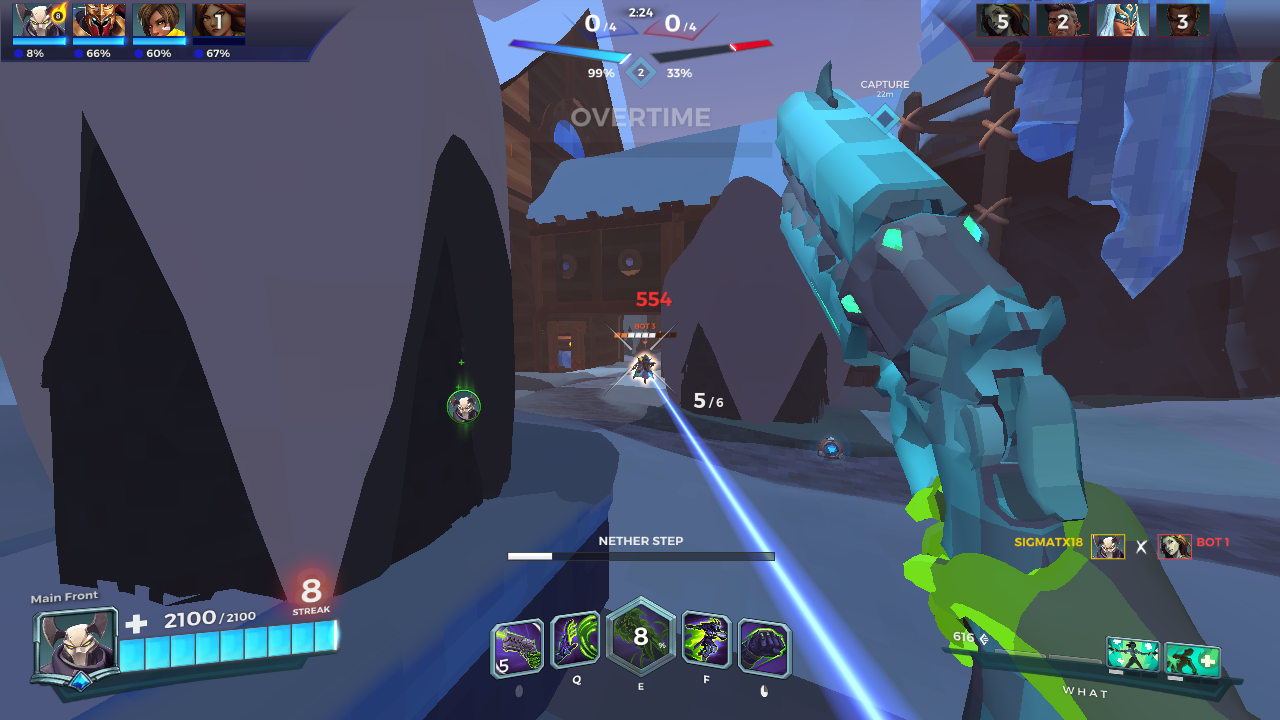model: (631, 348, 658, 385)
